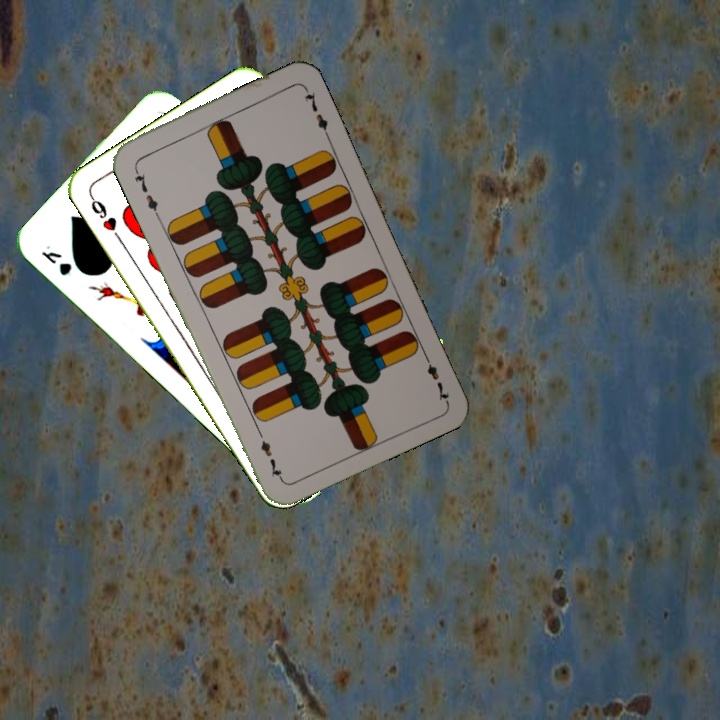E7: (129, 162, 161, 219), (419, 348, 451, 404)
GK: (37, 240, 74, 278)
H9: (85, 190, 124, 243)
